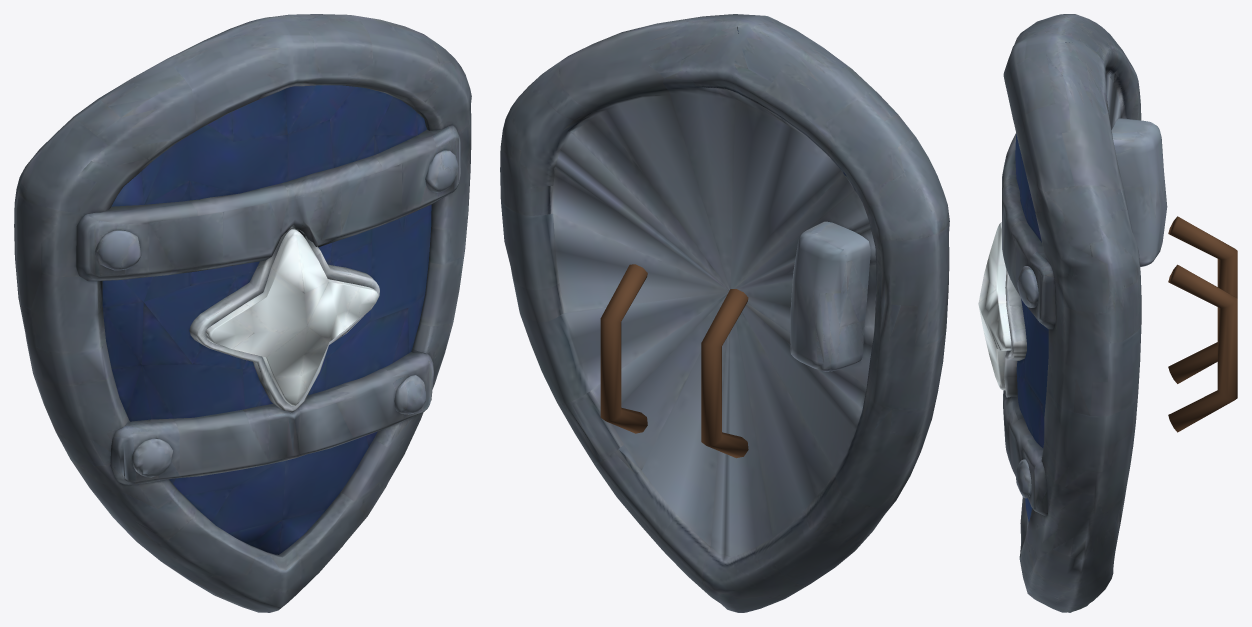
The model's file is shield-silver-blue.web.glb.
3 renders of one model, left to right at view 1: azimuth 30°, elevation 25°; view 2: azimuth 150°, elevation 25°; view 3: azimuth 270°, elevation 25°, orthographic. The views are drawn at different scales.
Visible parts, largest first — view 1: WeaponMesh; view 2: WeaponMesh, Shield forearm grip.001, Shield forearm grip; view 3: WeaponMesh, Shield forearm grip.001, Shield forearm grip.
Boxes of the visible parts, x1,y1,x2,y2 form: WeaponMesh: (14, 14, 471, 612); WeaponMesh: (500, 14, 949, 612); Shield forearm grip.001: (600, 264, 647, 433); Shield forearm grip: (701, 289, 748, 458); WeaponMesh: (978, 14, 1167, 612); Shield forearm grip.001: (1168, 264, 1237, 432); Shield forearm grip: (1168, 216, 1237, 383).
Bounding box in the file's own units: 0.5002 × 0.64 × 0.2613.
4 materials, 3 textured.
